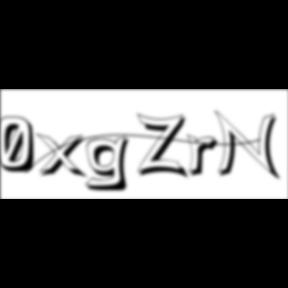0: (1, 115, 44, 174)
N: (214, 109, 284, 183)
Z: (136, 112, 192, 181)
g: (85, 134, 137, 194)
r: (187, 134, 225, 180)
x: (36, 132, 92, 181)
